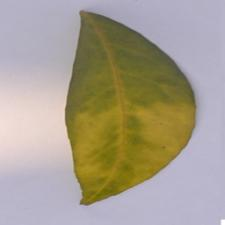Greening: (55, 18, 180, 182)
